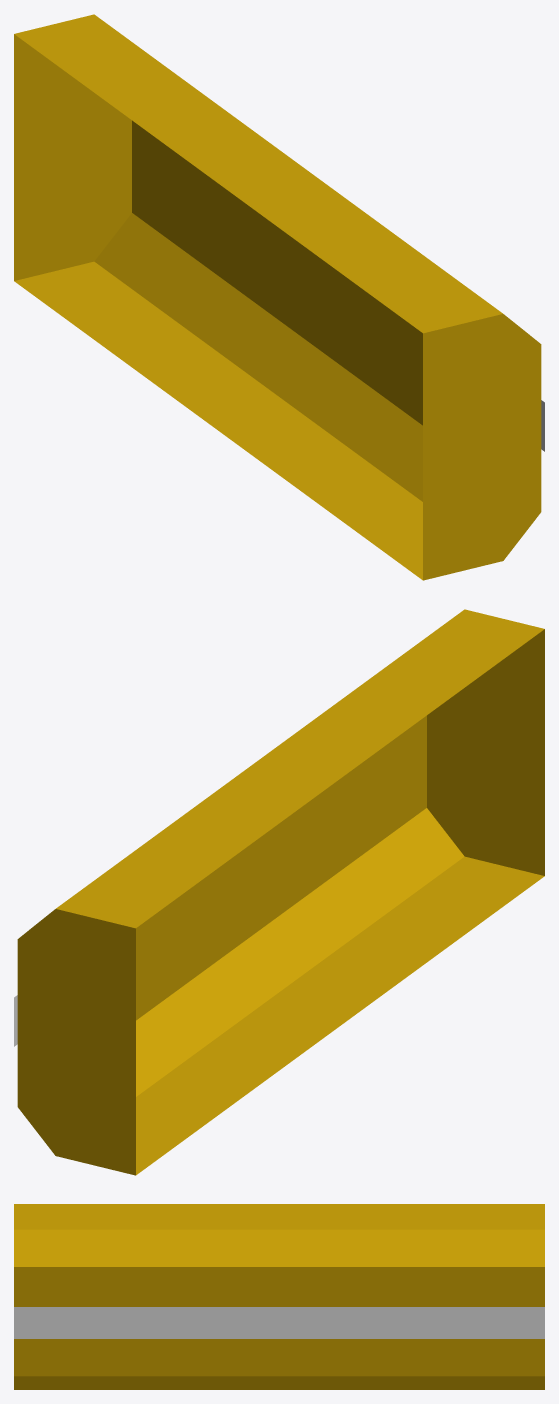
Rendered from EL_Panel_Wire_I.fbx.
The picture shows the model from 3 angles, top to bottom: view 1: azimuth 30°, elevation 25°; view 2: azimuth 150°, elevation 25°; view 3: azimuth 270°, elevation 25°; orthographic projection. The views are drawn at different scales.
Visible parts, largest first — view 1: Electrical_Panel_Switch_I.003; view 2: Electrical_Panel_Switch_I.003; view 3: Electrical_Panel_Switch_I.003.
Boxes of the visible parts, x1,y1,x2,y2 form: Electrical_Panel_Switch_I.003: [14, 14, 544, 580]; Electrical_Panel_Switch_I.003: [14, 609, 544, 1175]; Electrical_Panel_Switch_I.003: [14, 1204, 544, 1389].
Bounding box in the file's own units: 2.58 × 5 × 15.
